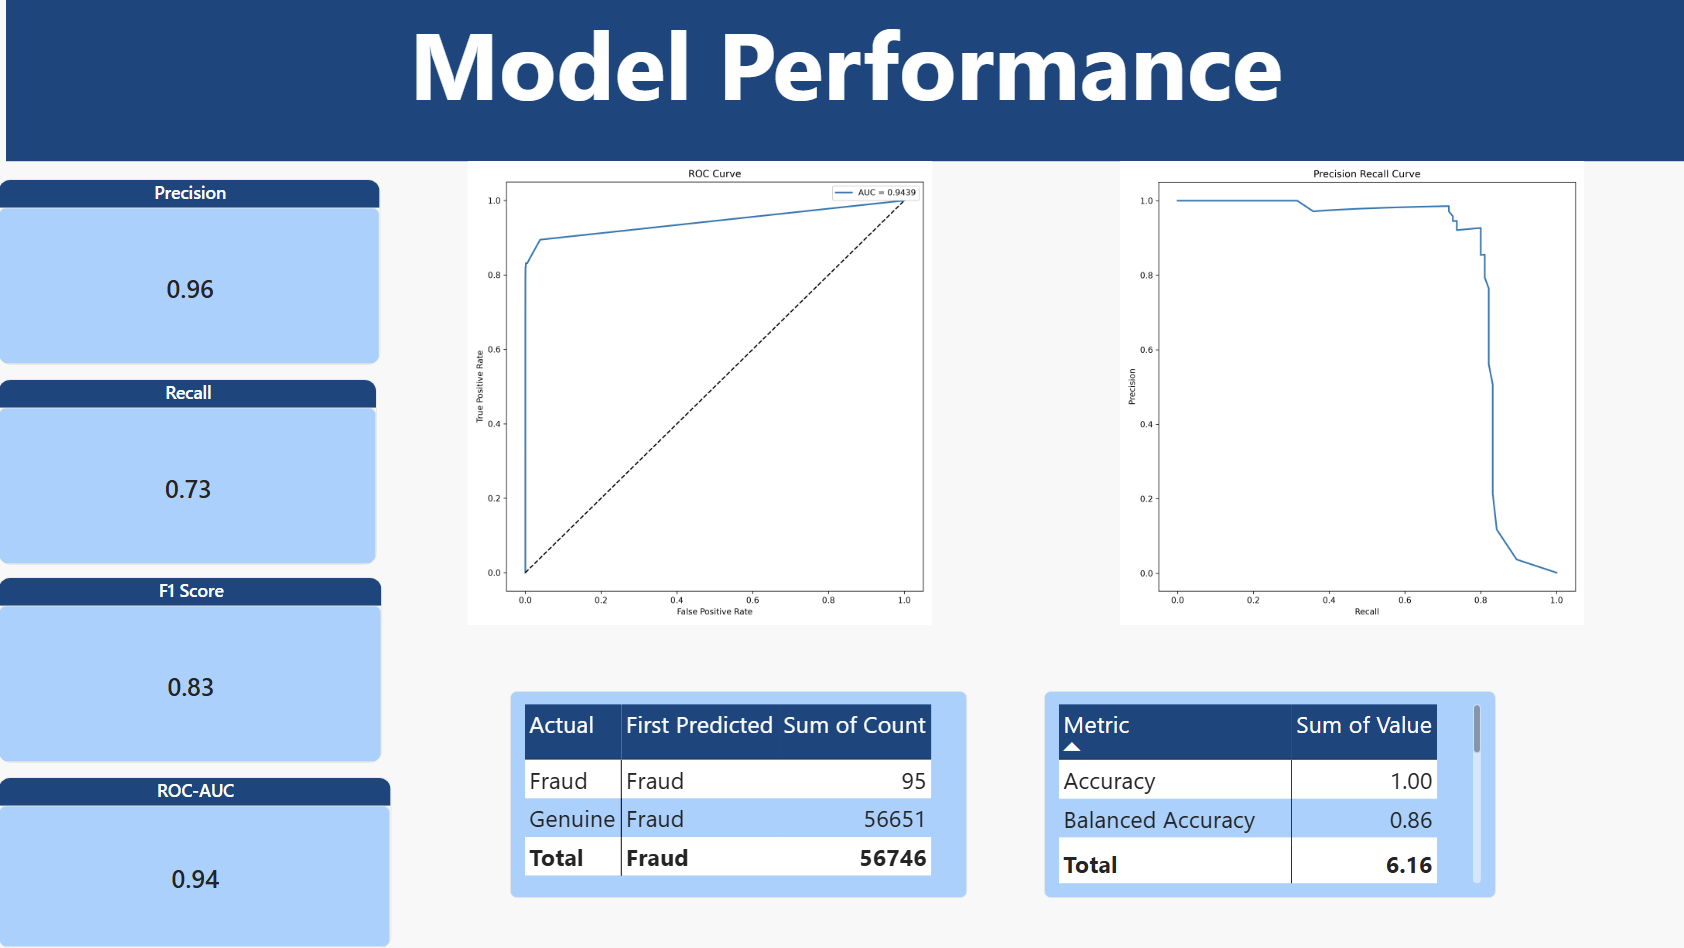

This screenshot's page, from the dashboard's own definition file:
{"tool":"powerbi","page":{"name":"Model Performance","canvas":[1920,1080],"ordinal":3},"visuals":[{"type":"textbox","box":[9.1,0,1910.9,184.3],"z":0},{"type":"cardVisual","title":"Precision ","fields":{"Data":["Measure.Precision KPI"]},"box":[0,205.5,435.2,211.6],"z":1000},{"type":"cardVisual","title":"Recall","fields":{"Data":["Measure.Recall KPI"]},"box":[0,431.2,431.2,211.6],"z":2000},{"type":"cardVisual","title":"F1 Score","fields":{"Data":["Measure.F1 Score KPI"]},"box":[0,656.9,437.2,211.6],"z":3000},{"type":"cardVisual","title":"ROC-AUC ","fields":{"Data":["Measure.ROC AUC KPI"]},"box":[0,884.6,447.3,195.4],"z":4000},{"type":"pivotTable","fields":{"Rows":["Model Metrics.Metric"],"Values":["Sum(Model Metrics.Value)"]},"box":[1190.1,786.7,514.1,235.7],"z":5000},{"type":"image","box":[276,183.4,1045.7,527.9],"z":6000},{"type":"image","box":[1160.2,184.3,759.8,527.8],"z":7000},{"type":"pivotTable","fields":{"Rows":["Confusion Matrix.Actual"],"Values":["Min(Confusion Matrix.Predicted)","Sum(Confusion Matrix.Count)"]},"box":[582.2,786.7,519.8,235.7],"z":8000}]}

Visuals, with their boxes in screenshot pixels (x1, y1, x2, y2), scaled from the page's 1920x1080 canvas onto the 1684x948 screenshot:
textbox: pyautogui.locateOnScreen(8, 0, 1683, 162)
"Precision " cardVisual: pyautogui.locateOnScreen(0, 180, 382, 366)
"Recall" cardVisual: pyautogui.locateOnScreen(0, 378, 378, 564)
"F1 Score" cardVisual: pyautogui.locateOnScreen(0, 577, 383, 762)
"ROC-AUC " cardVisual: pyautogui.locateOnScreen(0, 776, 392, 947)
pivotTable - Model Metrics.Metric x Sum(Model Metrics.Value): pyautogui.locateOnScreen(1044, 691, 1495, 897)
image: pyautogui.locateOnScreen(242, 161, 1159, 624)
image: pyautogui.locateOnScreen(1018, 162, 1683, 625)
pivotTable - Confusion Matrix.Actual x Min(Confusion Matrix.Predicted): pyautogui.locateOnScreen(511, 691, 967, 897)
